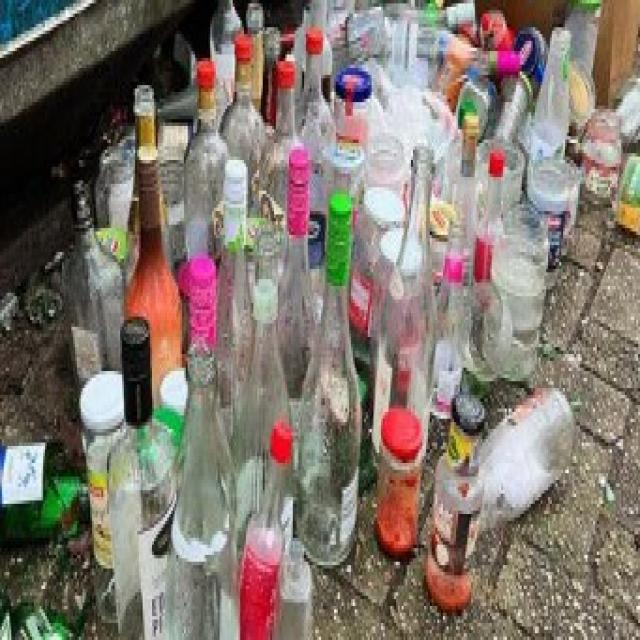electronic: (78, 0, 582, 640)
